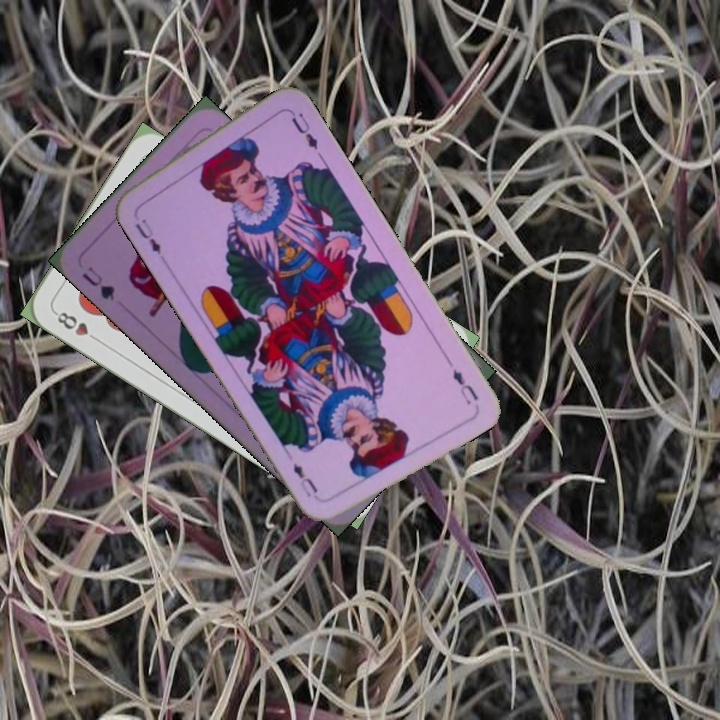EU: (448, 364, 481, 407), (130, 219, 164, 257)
GU: (77, 262, 118, 304)
H8: (50, 307, 103, 345)
